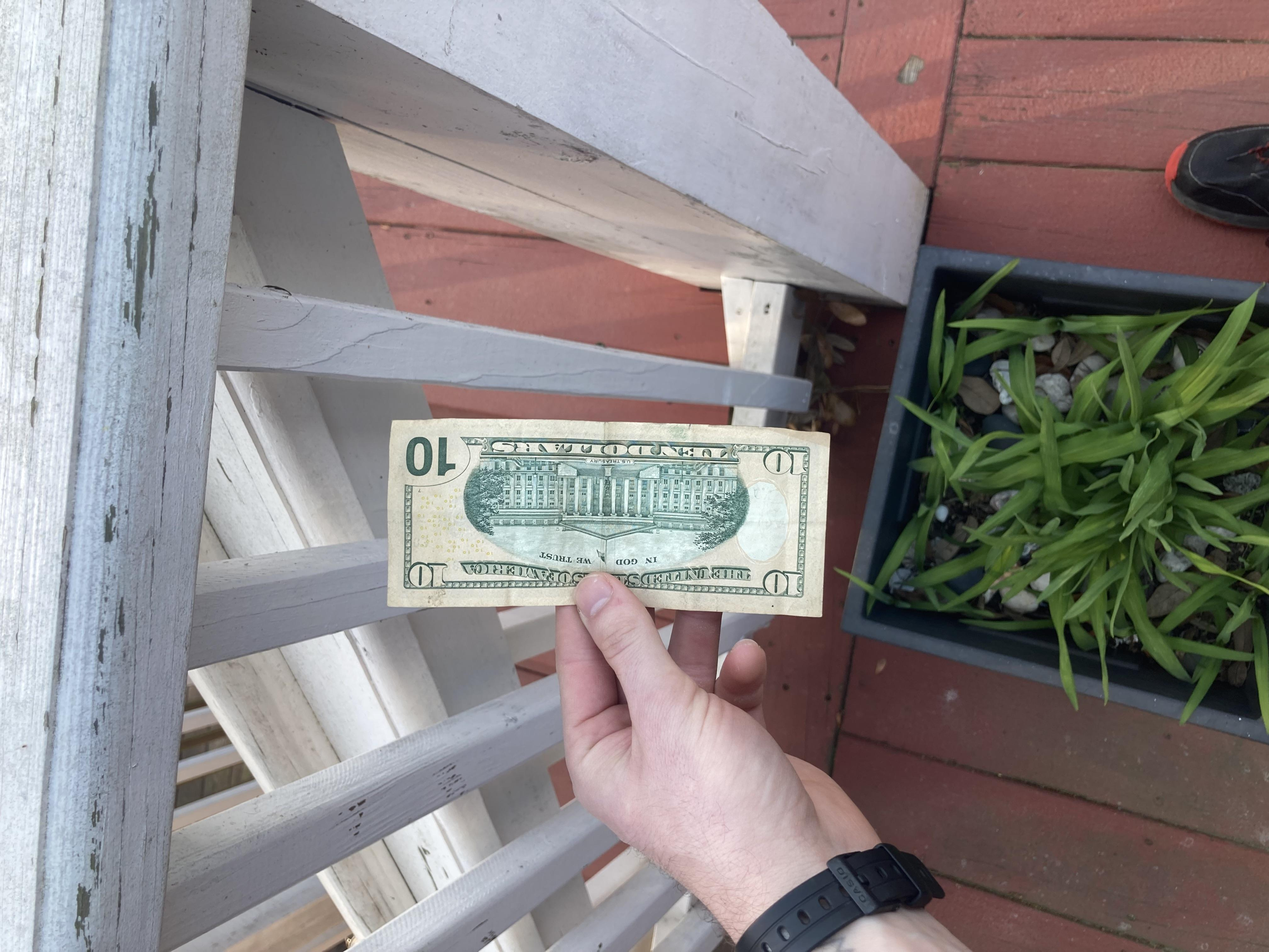ten-back: (457, 289, 711, 623)
